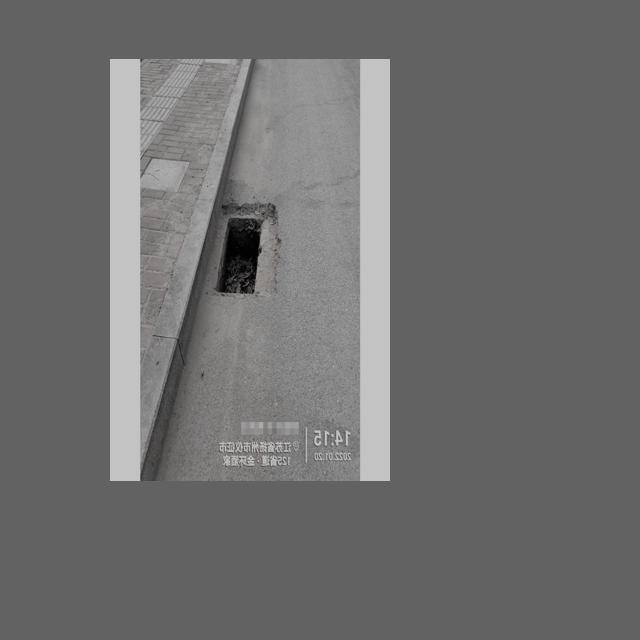lose: (192, 189, 293, 316)
